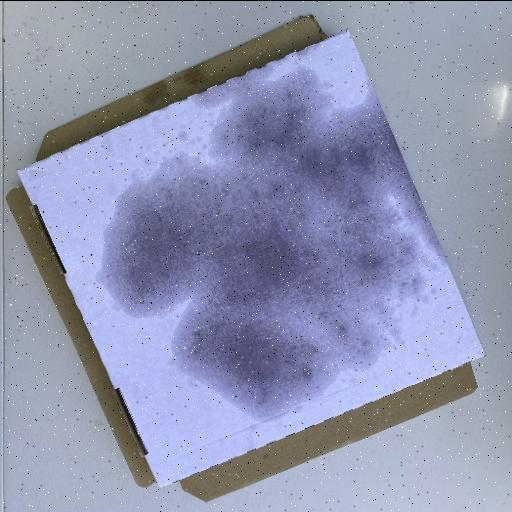Cardboard: (12, 17, 484, 499)
